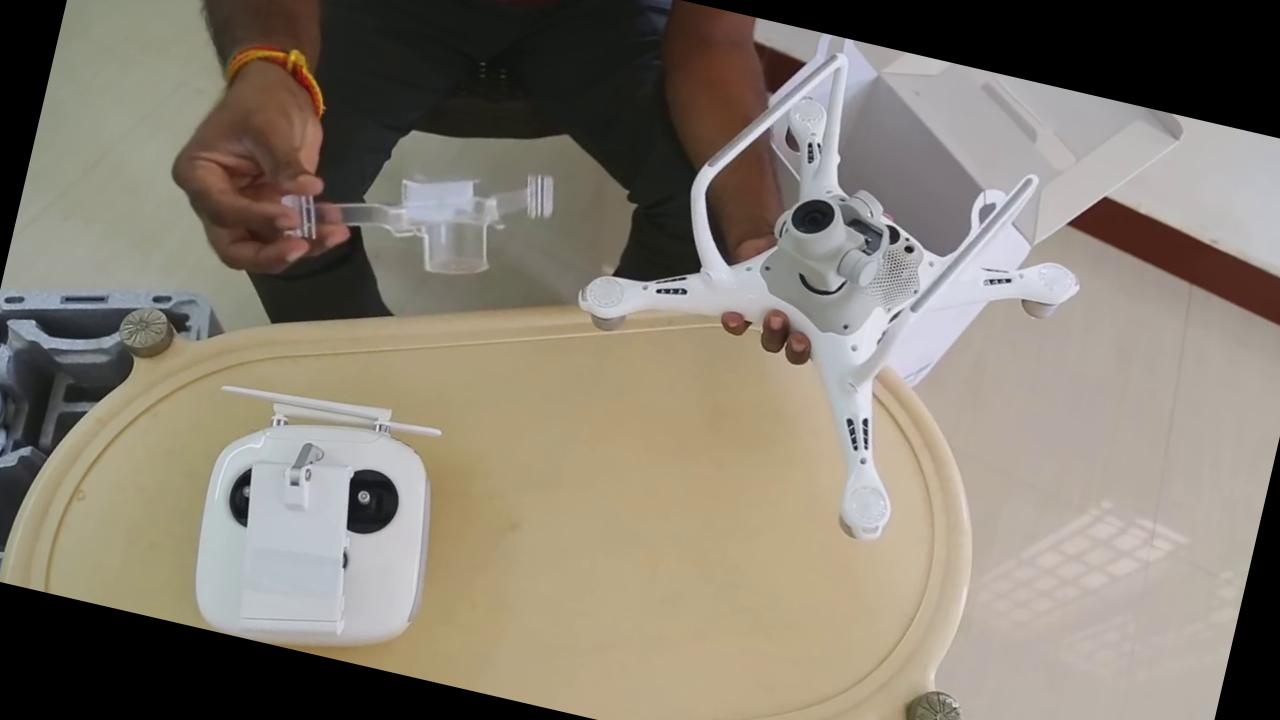drone: (525, 38, 1116, 575)
